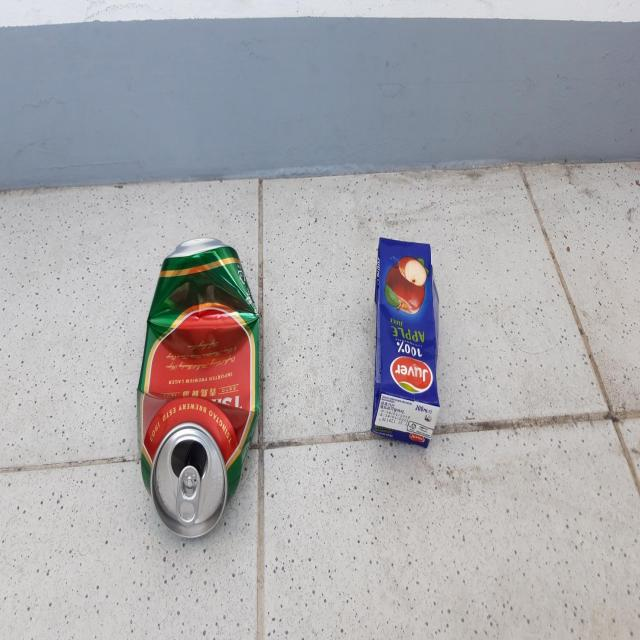can: (137, 237, 260, 538)
paperpack: (372, 237, 440, 447)
